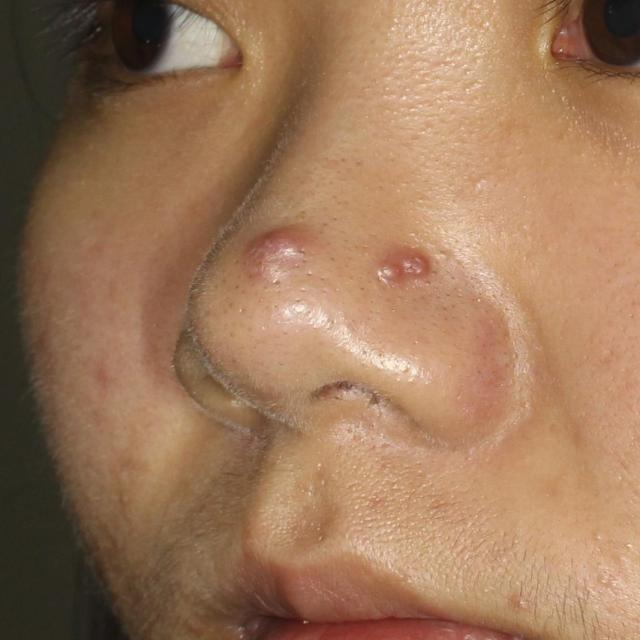nodule: (244, 230, 308, 282), (403, 256, 429, 276), (376, 264, 402, 282)
